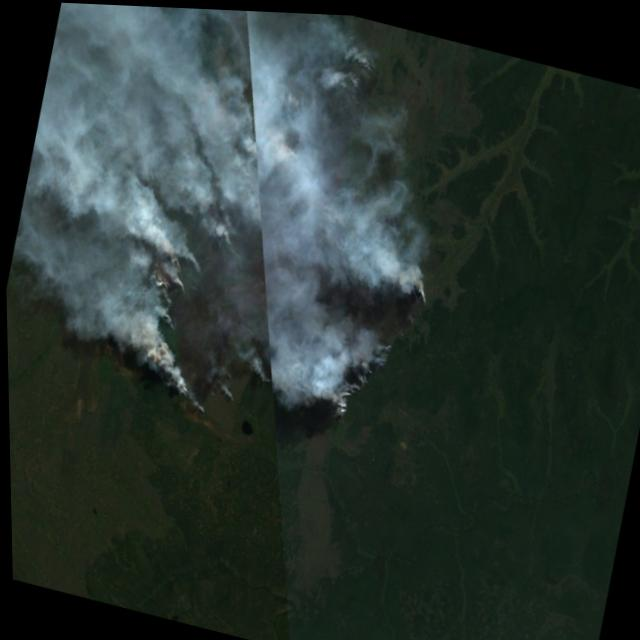fire: (109, 196, 305, 441), (294, 219, 445, 463), (313, 26, 388, 116)
